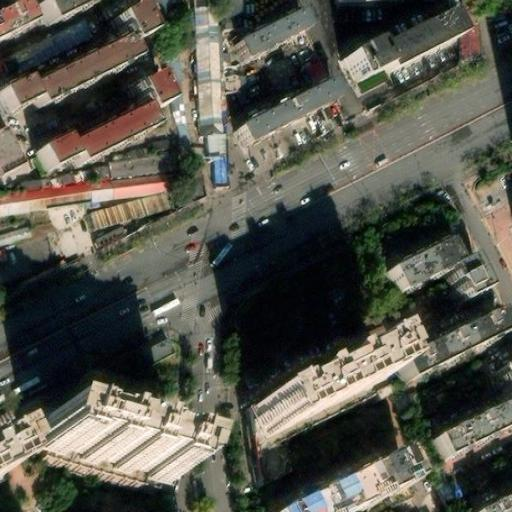building: (235, 354, 370, 443), (27, 430, 176, 500), (386, 305, 499, 379), (22, 32, 130, 100), (280, 455, 406, 512), (230, 79, 333, 144), (57, 96, 144, 157), (226, 9, 304, 64), (377, 242, 446, 294), (0, 182, 86, 217), (193, 27, 220, 132), (83, 170, 162, 204), (342, 34, 386, 80), (437, 258, 478, 303), (26, 126, 66, 165), (138, 331, 175, 366), (126, 74, 159, 109), (490, 359, 512, 410), (112, 8, 142, 43), (475, 492, 512, 512), (205, 131, 223, 163), (0, 5, 18, 35), (210, 162, 225, 187)
